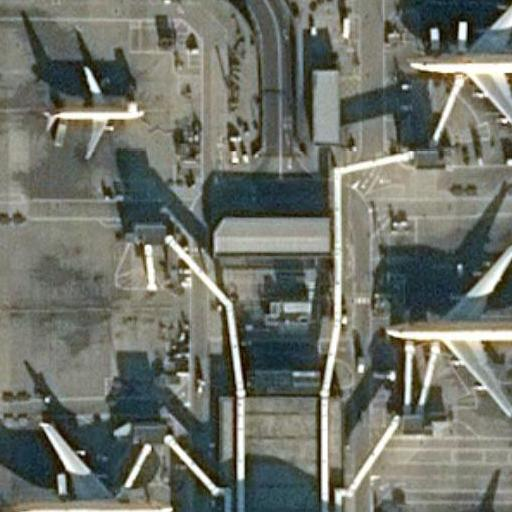Aircraft: (386, 240, 512, 417), (0, 417, 174, 512), (410, 0, 512, 152), (43, 64, 144, 158)
